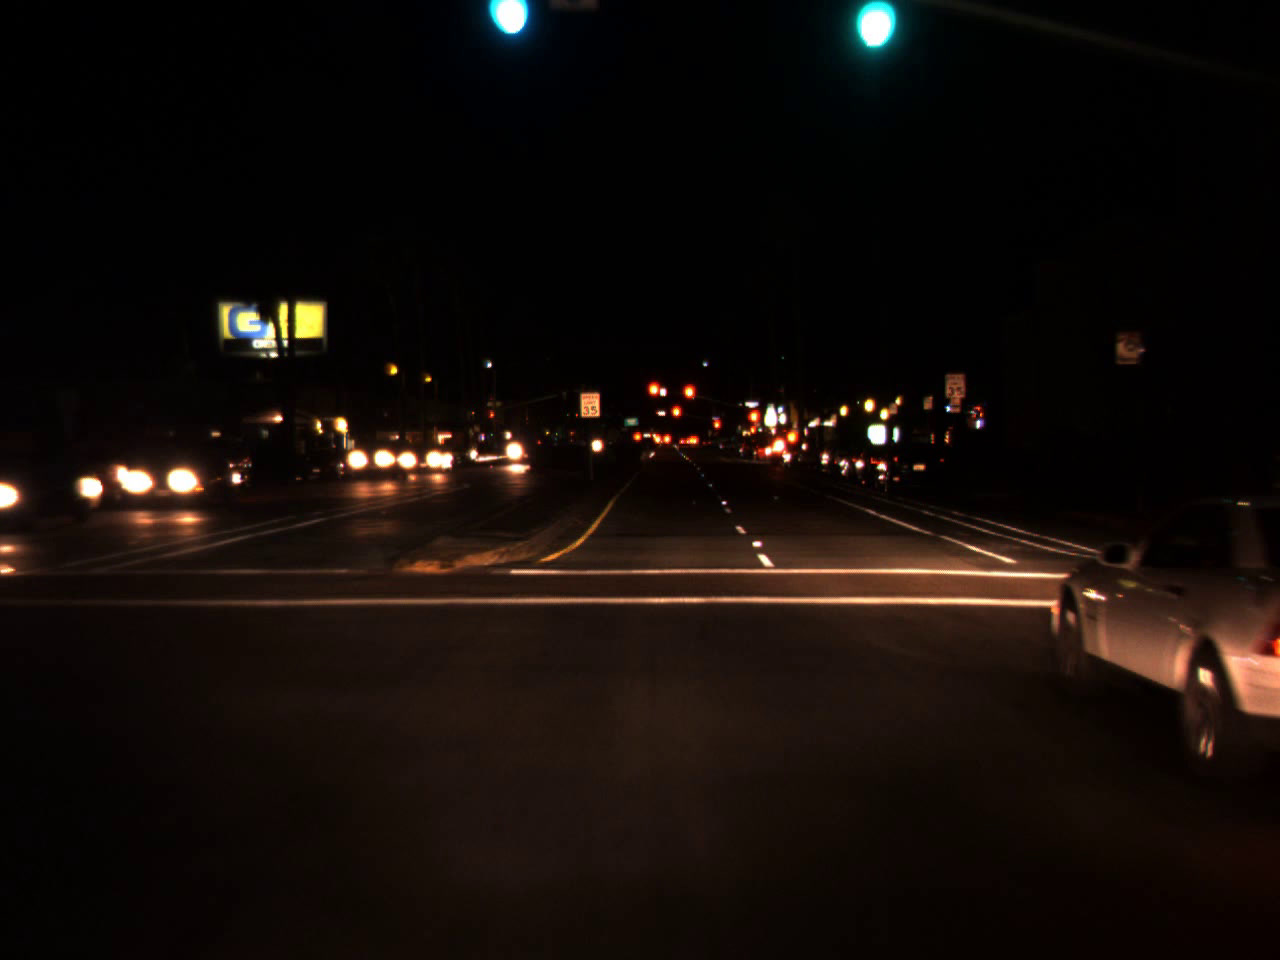go: (848, 0, 891, 55), (484, 0, 530, 44)
stop: (646, 380, 662, 412), (682, 383, 695, 415), (669, 403, 682, 430), (748, 411, 758, 432), (712, 418, 721, 439), (489, 412, 495, 422)
